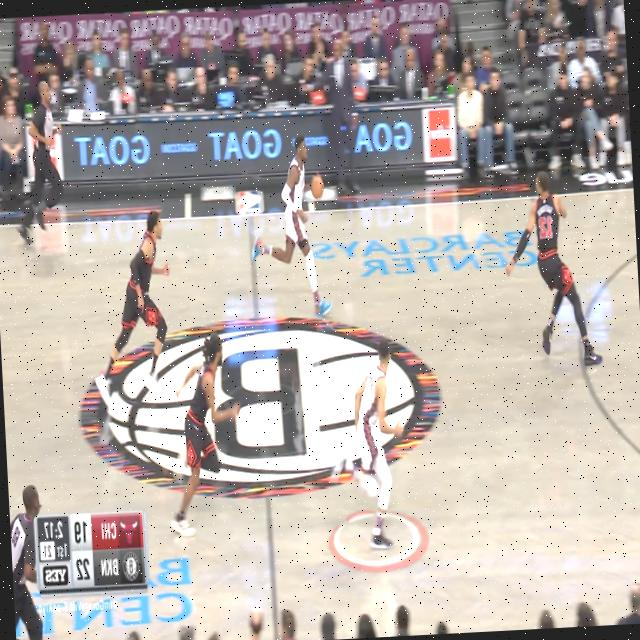no foul: (467, 134, 640, 377), (308, 321, 472, 566), (72, 178, 205, 408), (234, 121, 388, 318), (147, 324, 255, 548)
